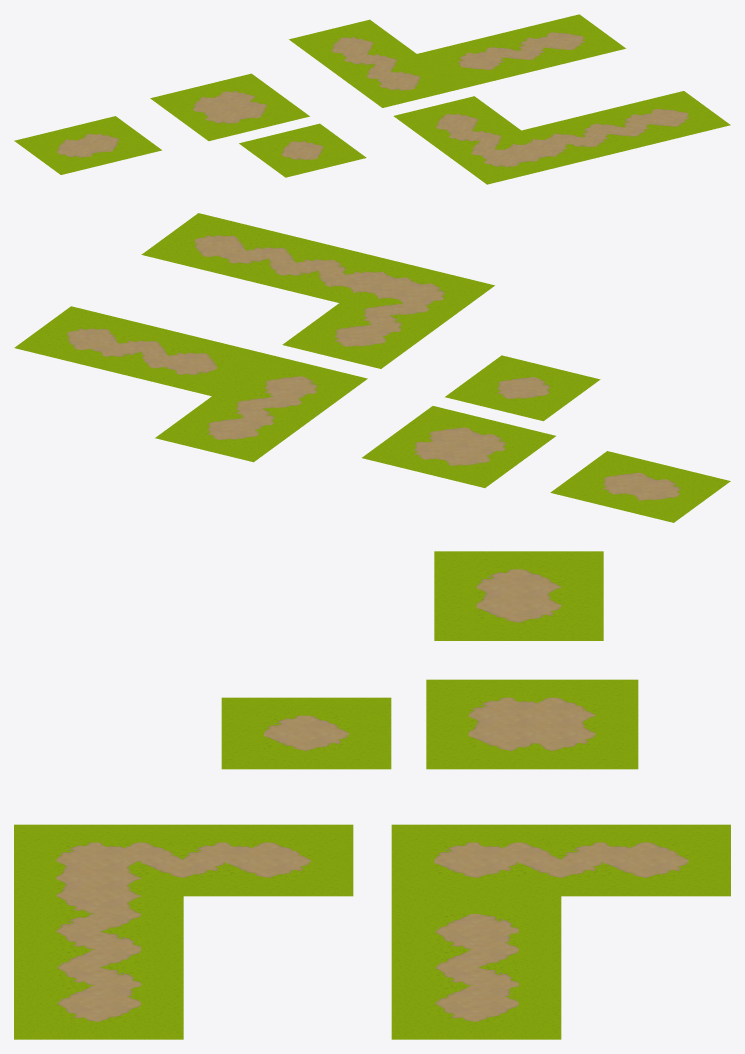
File: TM_Ground.fbx
3 renders of one model, top to bottom at view 1: azimuth 30°, elevation 25°; view 2: azimuth 150°, elevation 25°; view 3: azimuth 270°, elevation 25°, orthographic. The views are drawn at different scales.
Parts seen in each view (by area): view 1: no part large enough to name; view 2: no part large enough to name; view 3: TM_Grass_BasicCube01.220, TM_Grass_BasicCube01.229, Plane.010, Plane.018, Plane.020, Plane.021, Plane.049, Plane.050, Plane.052, Plane.053, Plane.066, Plane.067 (+177 smaller).
Part boxes in pixels (x1=…): TM_Grass_BasicCube01.220: x1=603, y1=842, x2=646, y2=860; TM_Grass_BasicCube01.229: x1=603, y1=860, x2=646, y2=878; Plane.010: x1=603, y1=878, x2=646, y2=896; Plane.018: x1=391, y1=878, x2=434, y2=896; Plane.020: x1=391, y1=860, x2=434, y2=878; Plane.021: x1=391, y1=842, x2=434, y2=860; Plane.049: x1=595, y1=751, x2=638, y2=769; Plane.050: x1=595, y1=697, x2=638, y2=715; Plane.052: x1=595, y1=733, x2=638, y2=751; Plane.053: x1=595, y1=679, x2=638, y2=697; Plane.066: x1=391, y1=985, x2=434, y2=1003; Plane.067: x1=391, y1=1003, x2=434, y2=1021.
Bounding box in the file's own units: 54.49 × 0 × 33.82.
